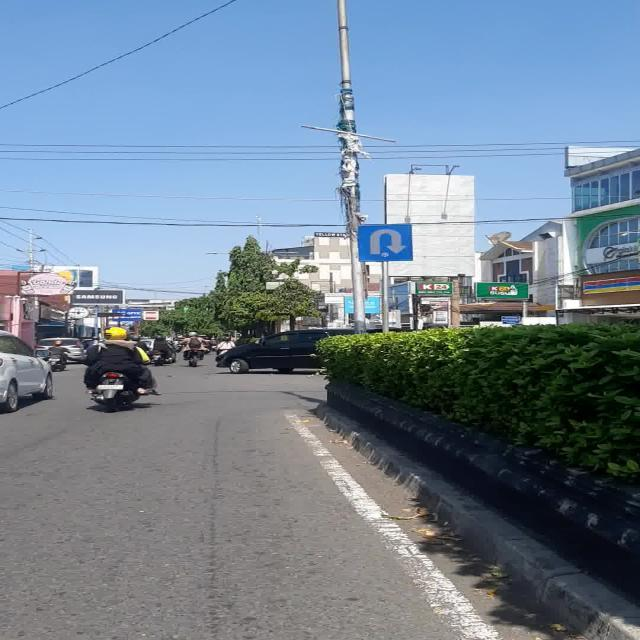Putar Balik: (358, 224, 413, 262)
